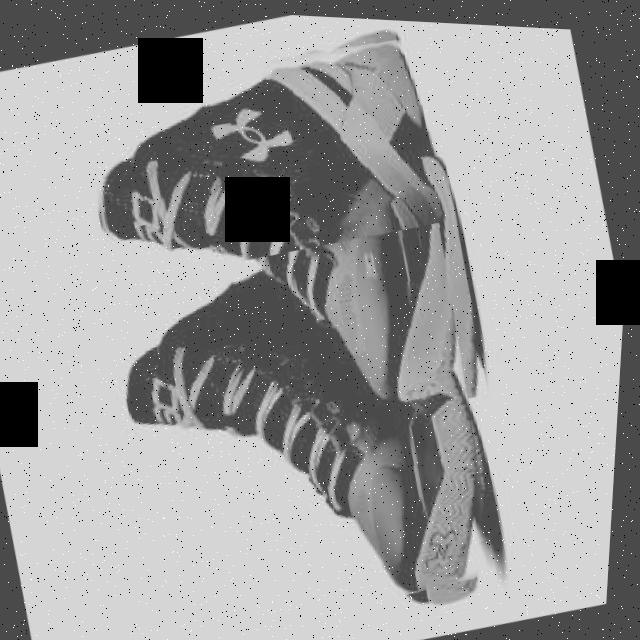shoe: (56, 3, 510, 473), (90, 204, 531, 640)
